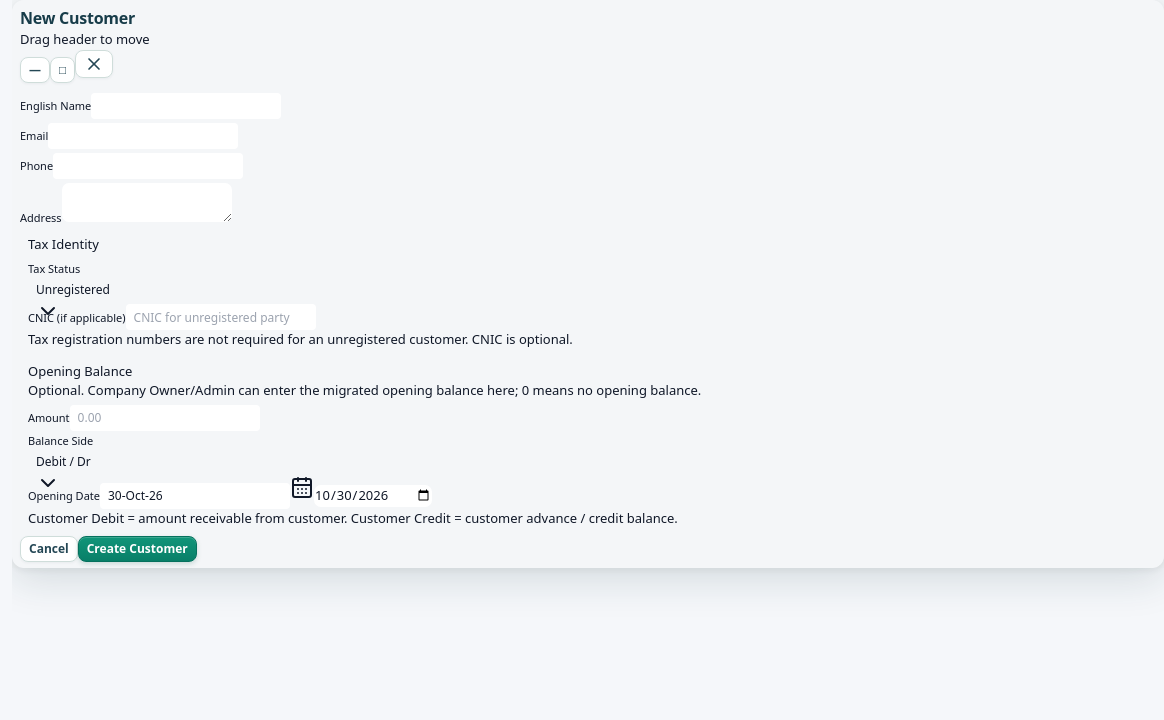
Test: Canonical quick master editors › validates registered tax identity before posting
The width and height of the screenshot is (1164, 720).
Step 1. Type "Party" into the field named "English Name" → {"x": 186, "y": 106}, box [91,93,281,119]
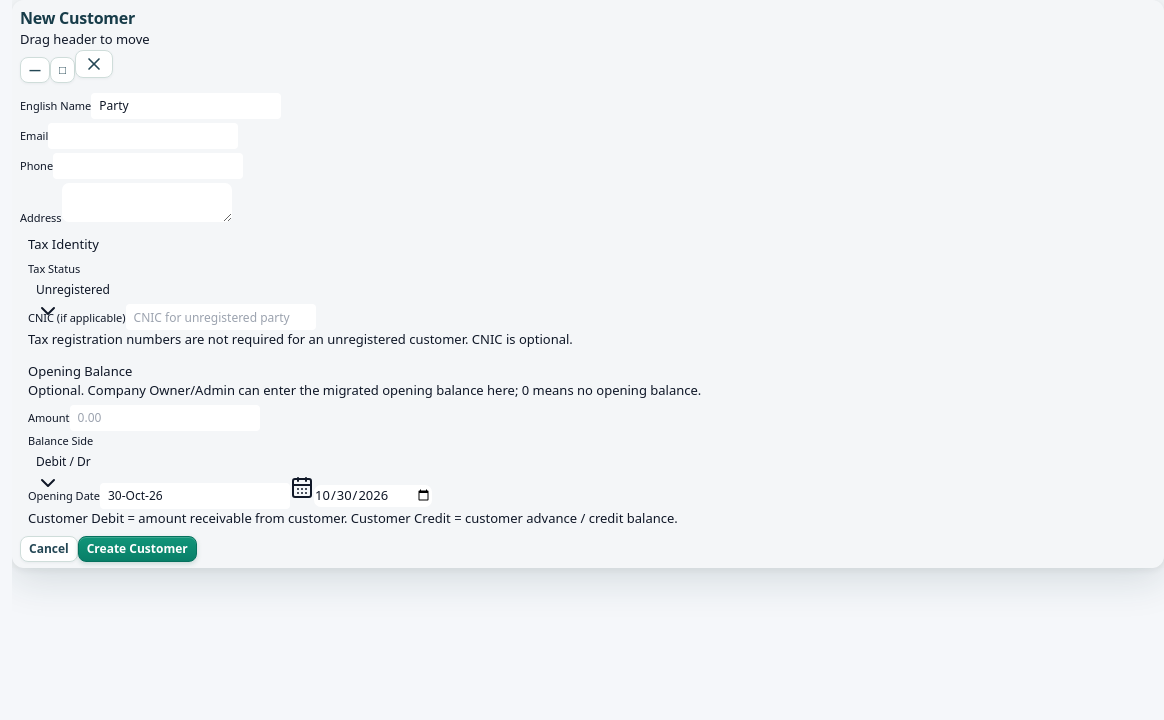
Step 2. Click the button with aria-label "Tax Status" → {"x": 73, "y": 291}, box [28,278,118,304]
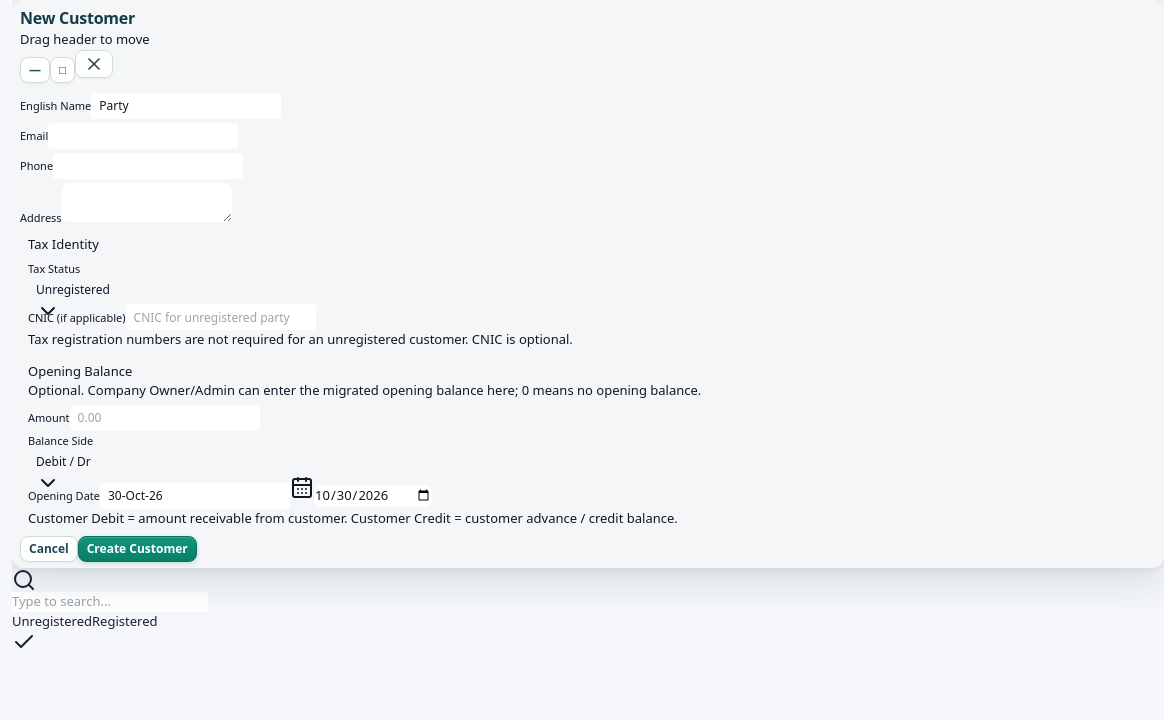
Step 3. Click the option "Registered" → {"x": 125, "y": 621}, box [92,613,158,630]
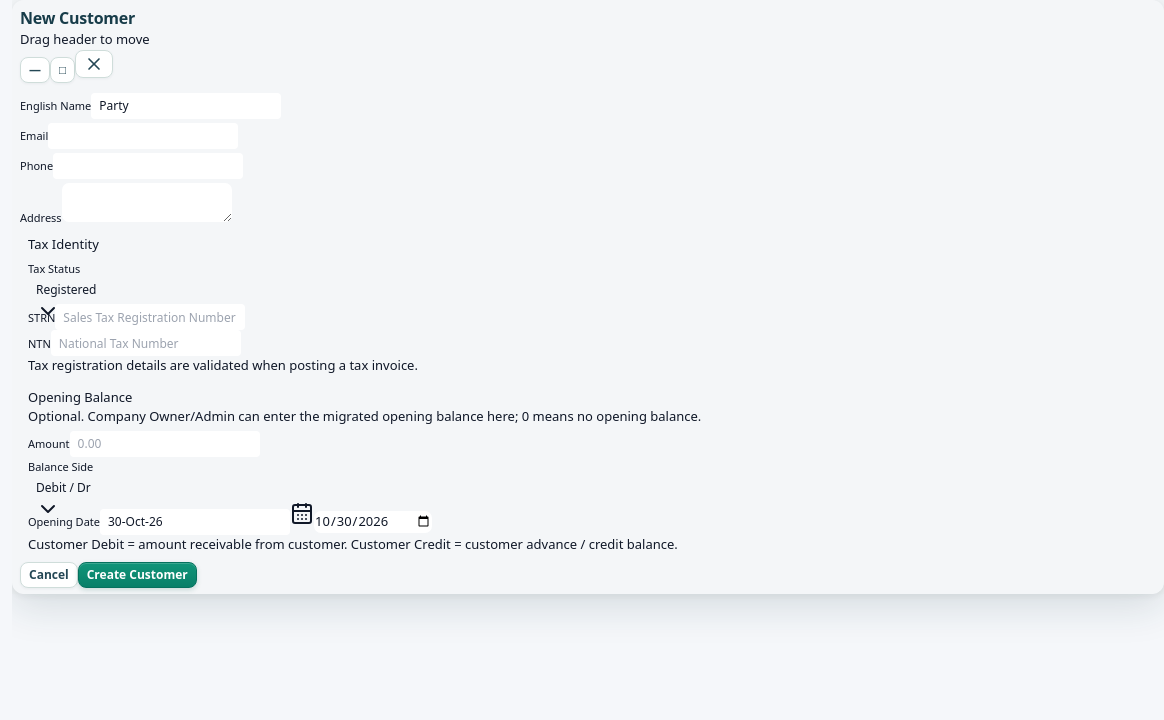
Expected: the field named "NTN" is shown, [51,330,241,356]
Expected: the field named "STRN" is shown, [55,304,245,330]
Step 4. Submit the form, box [20,93,701,588]
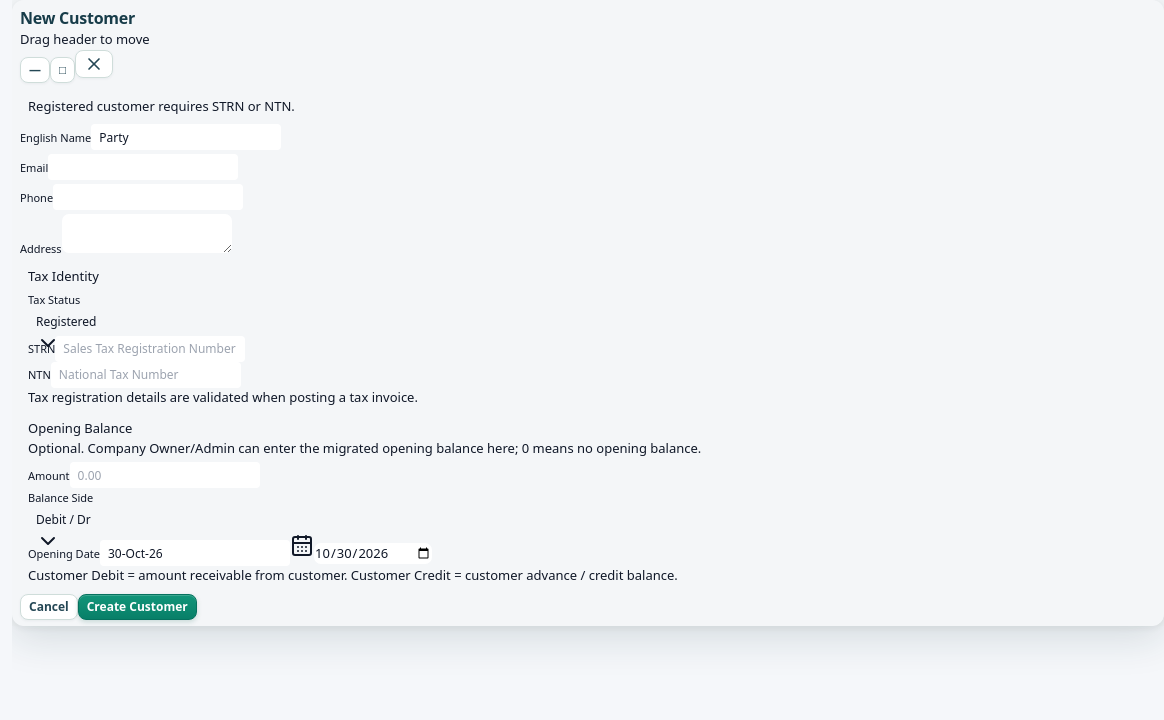
Expected: the message "Registered customer requires STRN or NTN." is shown, [28,97,295,115]
